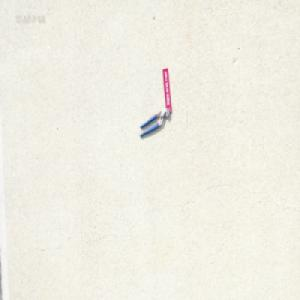Label: (162, 66, 172, 113)
Pliers: (139, 106, 170, 137)
